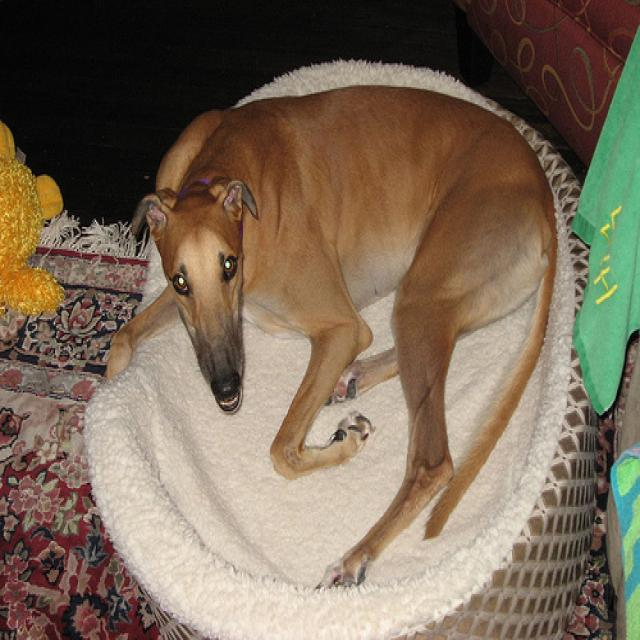dog: (103, 85, 558, 588)
